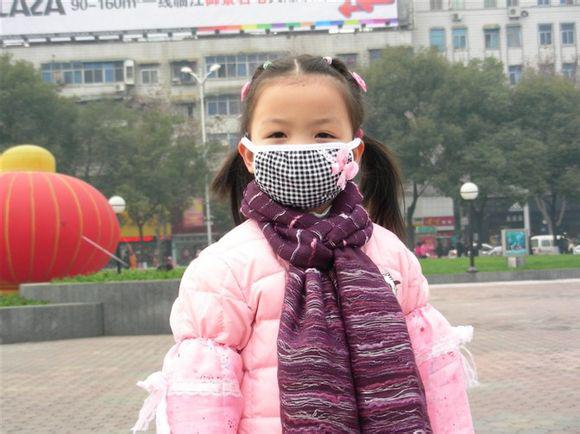OK: (256, 106, 357, 207)
